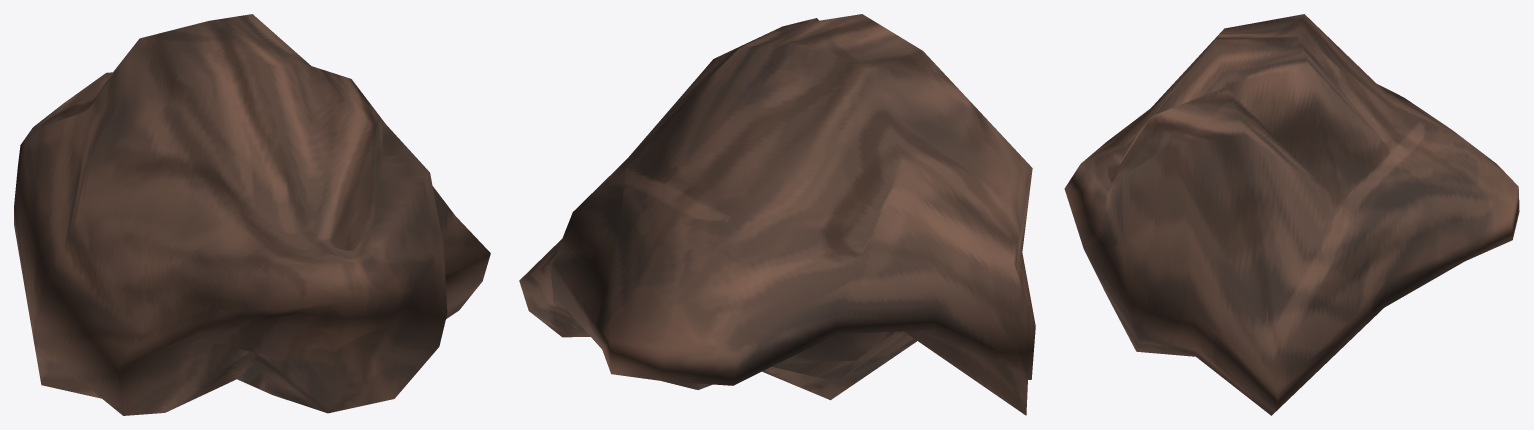
File: Rock2_ALT2_MESH.fbx
3 renders of one model, left to right at view 1: azimuth 30°, elevation 25°; view 2: azimuth 150°, elevation 25°; view 3: azimuth 270°, elevation 25°, orthographic. The views are drawn at different scales.
Parts seen in each view (by area): view 1: Rock2WIP1:pCube1; view 2: Rock2WIP1:pCube1; view 3: Rock2WIP1:pCube1.
Boxes of the visible parts, bbox=[...] form: Rock2WIP1:pCube1: bbox=[14, 14, 490, 415]; Rock2WIP1:pCube1: bbox=[519, 14, 1035, 415]; Rock2WIP1:pCube1: bbox=[1064, 14, 1519, 415].
Size of the model in its own units: 17.51 by 12.23 by 17.81.
1 material, 1 textured.
